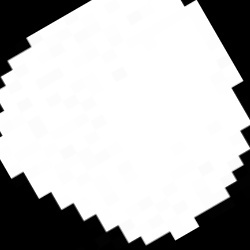spot: (0, 1, 250, 245)
